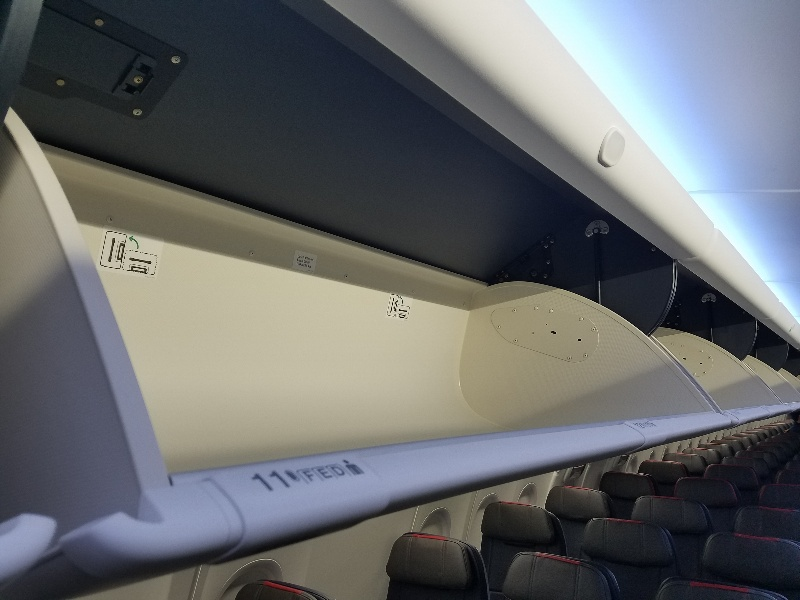open_bin: (24, 3, 709, 433), (693, 205, 776, 428), (778, 300, 800, 412)
